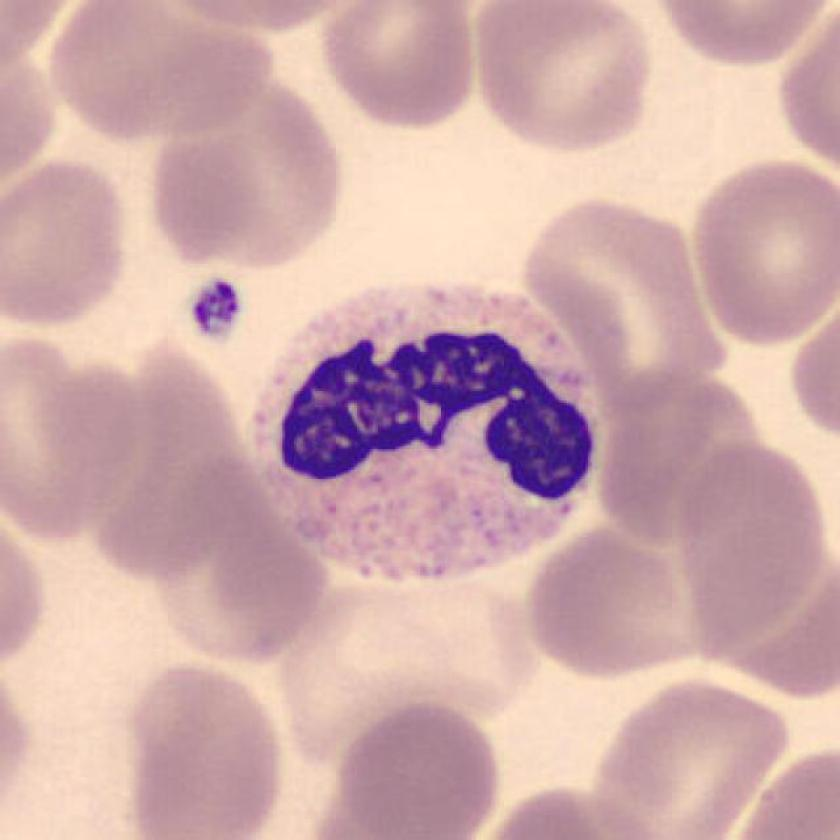neutrophil: (252, 287, 594, 579)
